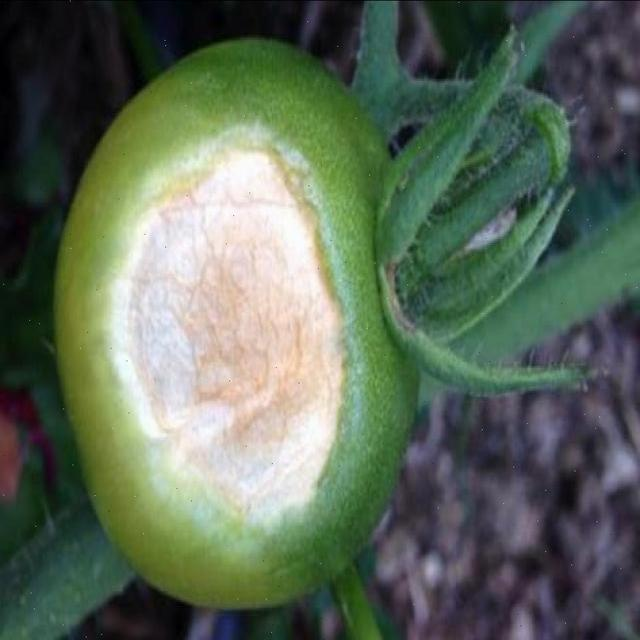Sunscald Fruit: (69, 85, 249, 364)
